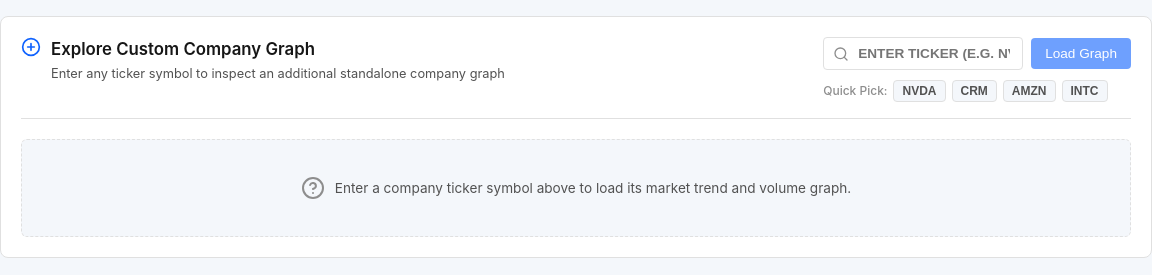
UI Rendering Paths & Component Tests › CustomCompanySection Rendering & Interaction Path › displays clear error message when ticker has no data
This screenshot has width=1152, height=275.
Type "ZZZZ" into the field with placeholder "Enter Ticker (e.g. NVDA, CRM)" at (923, 54), box [823,37,1023,70]
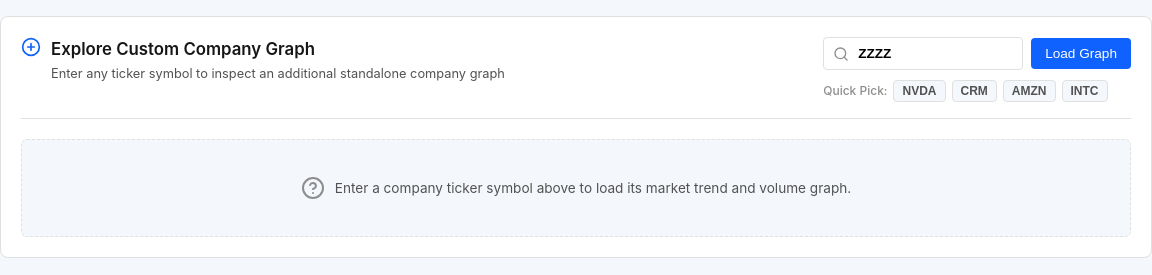
Click the button "Load Graph" at (1081, 54), box [1031,38,1131,69]
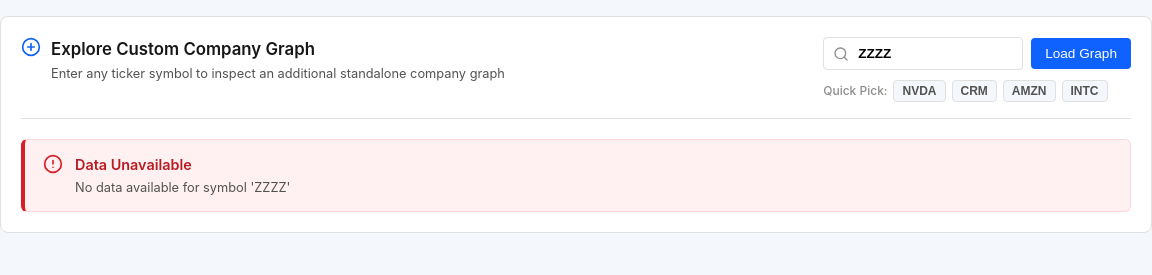
Now the message "Data Unavailable No data available for symbol 'ZZZZ'" is shown, box [21,139,1131,212]
Now the heading "Data Unavailable" is shown, box [75,156,192,173]
Now the text "No data available for symbol 'ZZZZ'" is shown, box [75,178,290,197]
